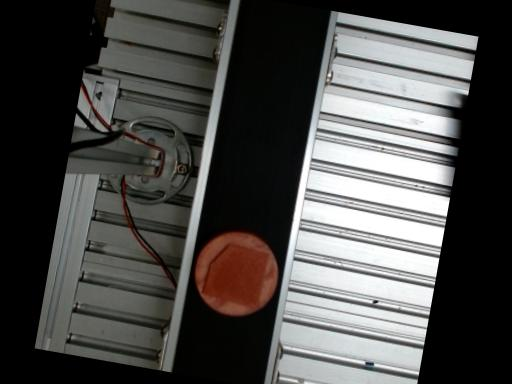Brown_Waper: (195, 231, 277, 316)
Not_Square: (201, 243, 269, 309)
